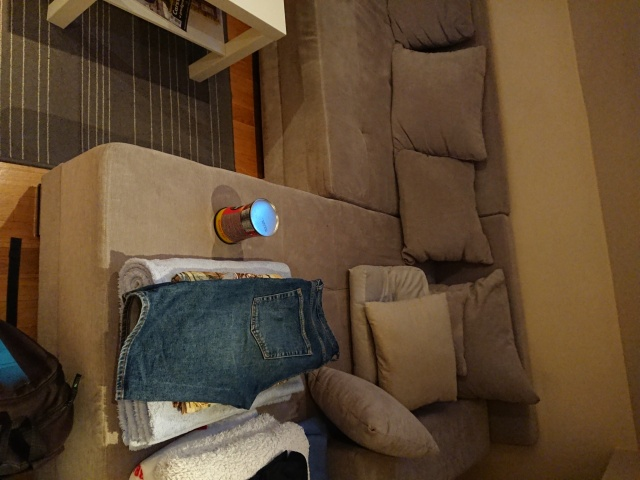Nescafe Classic 225g: (211, 195, 282, 248)
